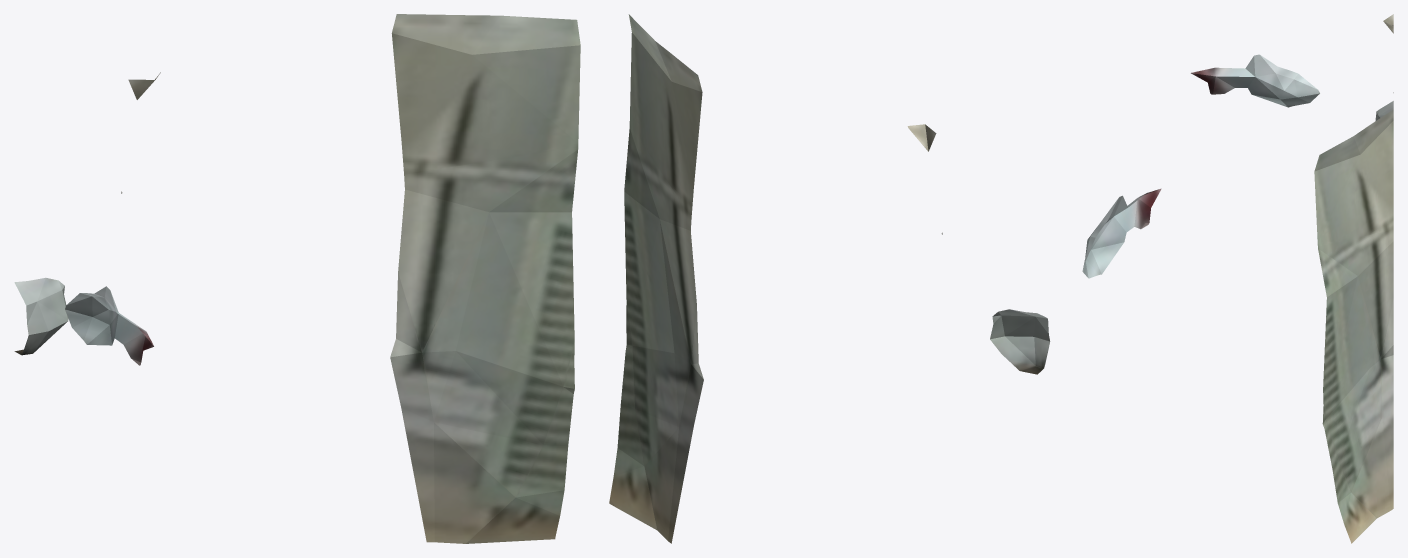
3 renders of one model, left to right at view 1: azimuth 30°, elevation 25°; view 2: azimuth 150°, elevation 25°; view 3: azimuth 270°, elevation 25°, orthographic. The views are drawn at different scales.
Size of the model in its own units: 1.67 by 1.67 by 0.7939.
Materials: 1 (1 with a texture image).
